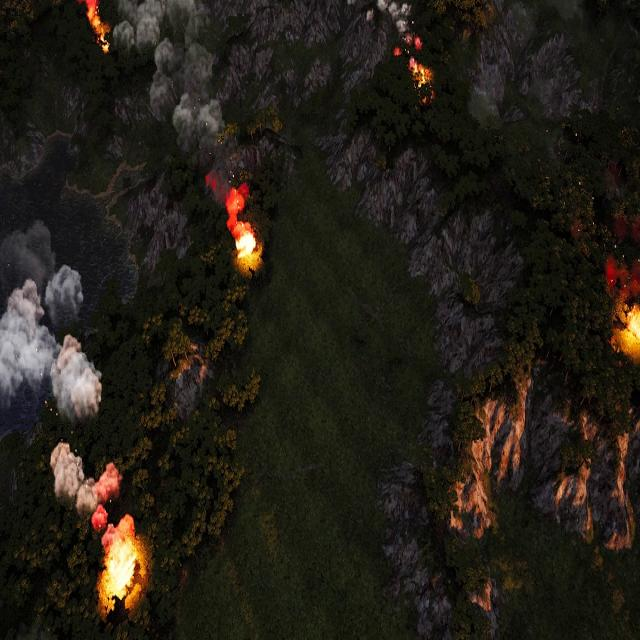fire: (99, 519, 145, 608), (226, 190, 258, 264), (86, 1, 110, 50), (410, 54, 434, 91), (625, 306, 640, 344)
smoke: (0, 259, 119, 534), (114, 0, 246, 196), (607, 215, 640, 314), (380, 0, 422, 44)
